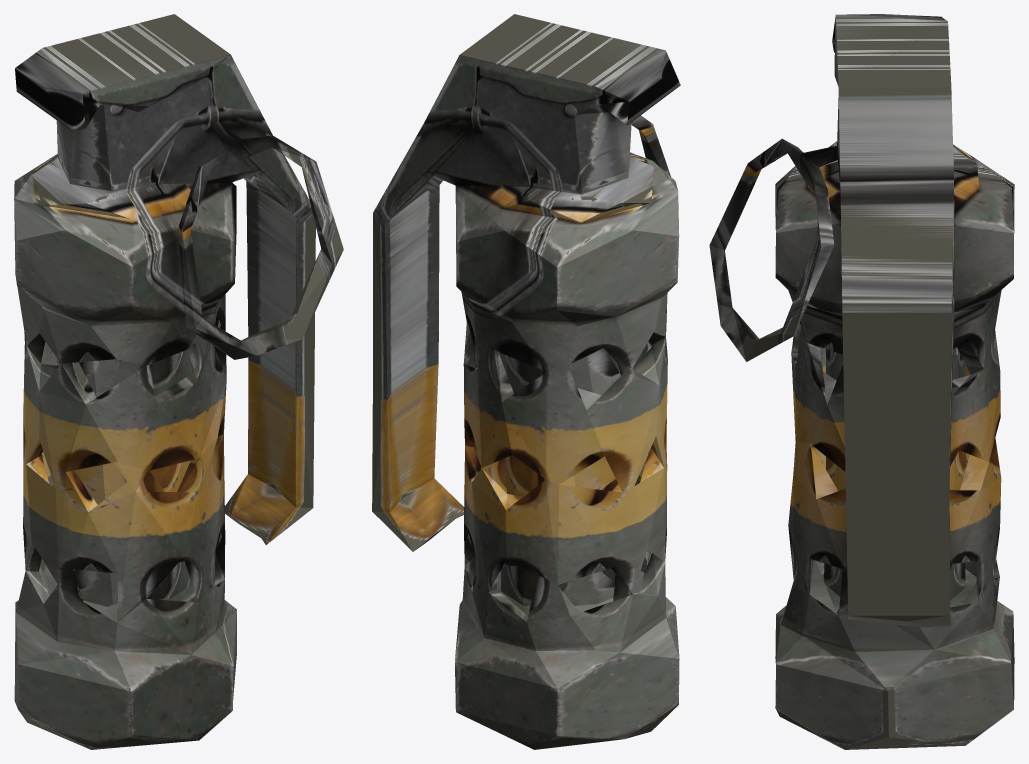
File: flash.glb
3 views of the same model, side by side, from view 1: azimuth 30°, elevation 25°; view 2: azimuth 150°, elevation 25°; view 3: azimuth 270°, elevation 25° (orthographic).
Visible parts, largest first — view 1: Mesh_0; view 2: Mesh_0; view 3: Mesh_0.
Boxes of the visible parts, x1,y1,x2,y2 form: Mesh_0: [14, 14, 343, 749]; Mesh_0: [372, 14, 680, 749]; Mesh_0: [709, 14, 1014, 749].
Bounding box in the file's own units: 0.054 × 0.12 × 0.0503.
Materials: 1 (1 with a texture image).
